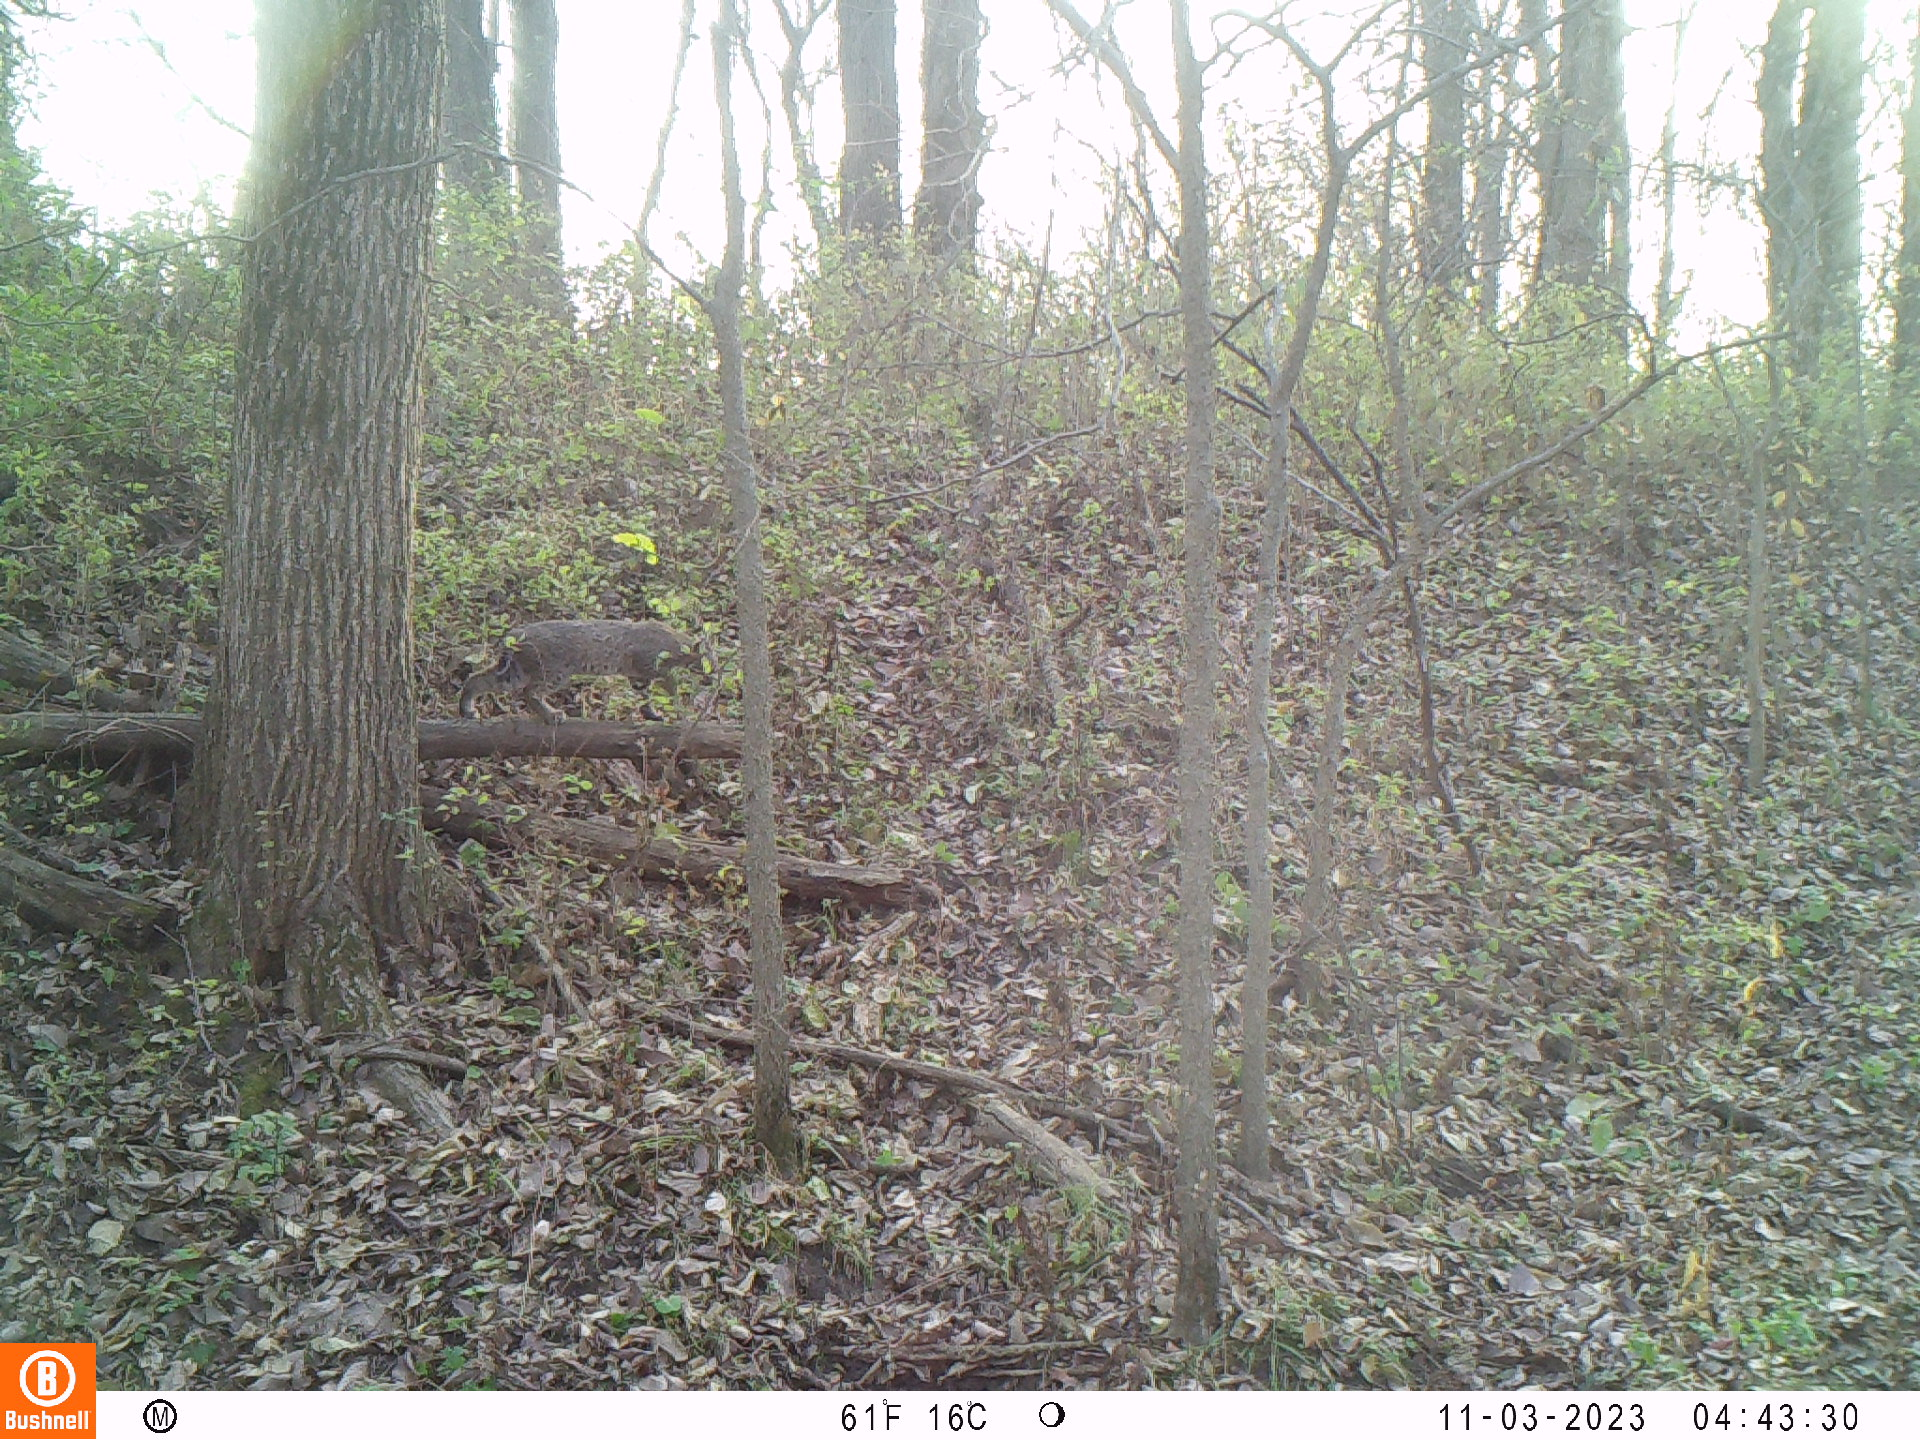Bobcat: (454, 613, 711, 725)
